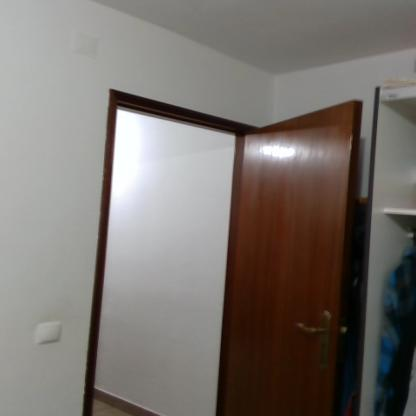open: (79, 86, 378, 415)
